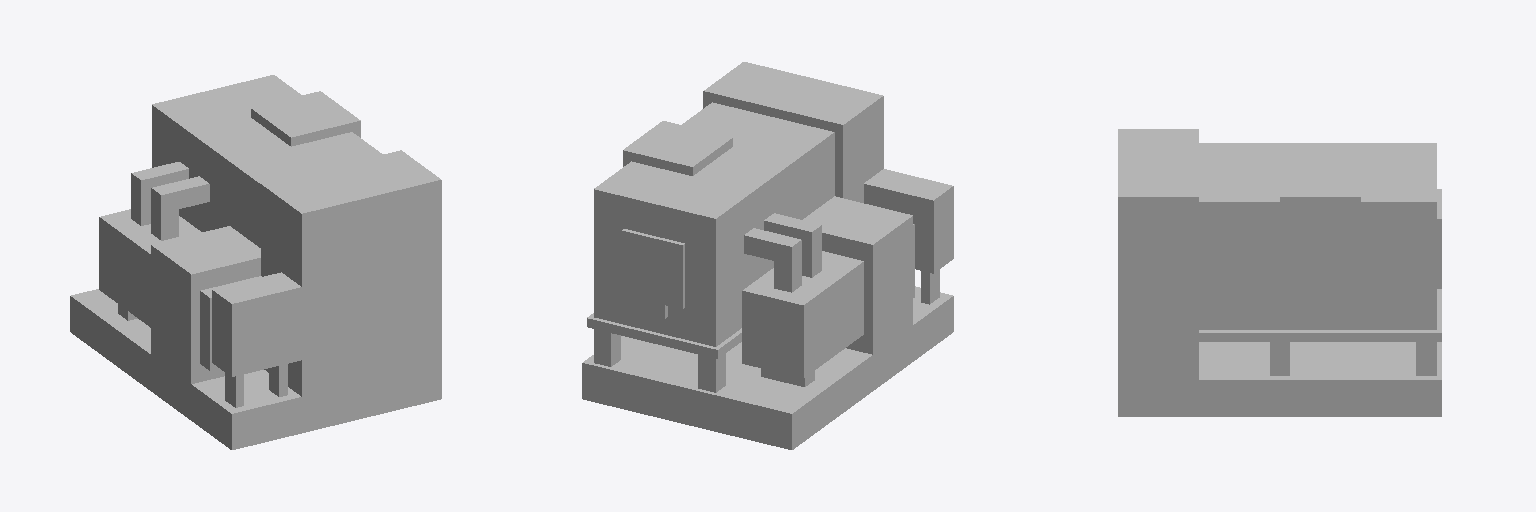
Rendered from hydrotreater.obj.
3 renders of one model, left to right at view 1: azimuth 30°, elevation 25°; view 2: azimuth 150°, elevation 25°; view 3: azimuth 270°, elevation 25°, orthographic.
Visible parts, largest first — view 1: hydrotreater_normal; view 2: hydrotreater_normal; view 3: hydrotreater_normal.
Boxes of the visible parts, x1=… form: hydrotreater_normal: x1=70, y1=75, x2=441, y2=449; hydrotreater_normal: x1=582, y1=62, x2=953, y2=449; hydrotreater_normal: x1=1118, y1=129, x2=1441, y2=416.
Bounding box in the file's own units: 3 × 3 × 4.